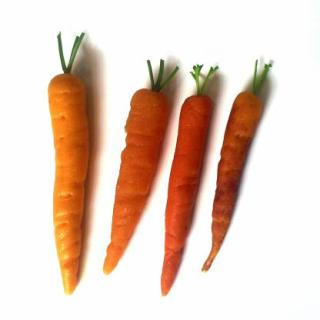Wortel: (48, 73, 92, 295)
